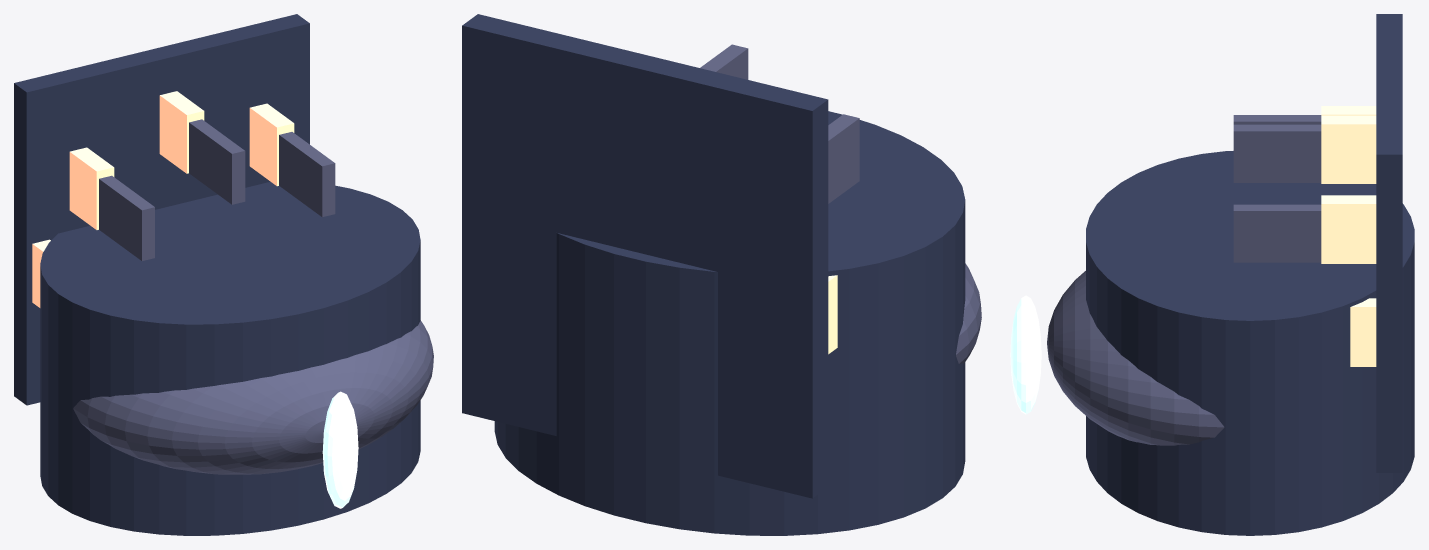
Rendered from ObservatoryDome_v09.glb.
3 renders of one model, left to right at view 1: azimuth 30°, elevation 25°; view 2: azimuth 150°, elevation 25°; view 3: azimuth 270°, elevation 25°, orthographic. The views are drawn at different scales.
Parts seen in each view (by area): view 1: ObservatoryDome; view 2: ObservatoryDome; view 3: ObservatoryDome.
Part boxes in pixels (<box>): ObservatoryDome: <box>14,14,433,535</box>; ObservatoryDome: <box>462,14,981,535</box>; ObservatoryDome: <box>1010,14,1414,535</box>.
Size of the model in its own units: 1 by 1 by 1.
